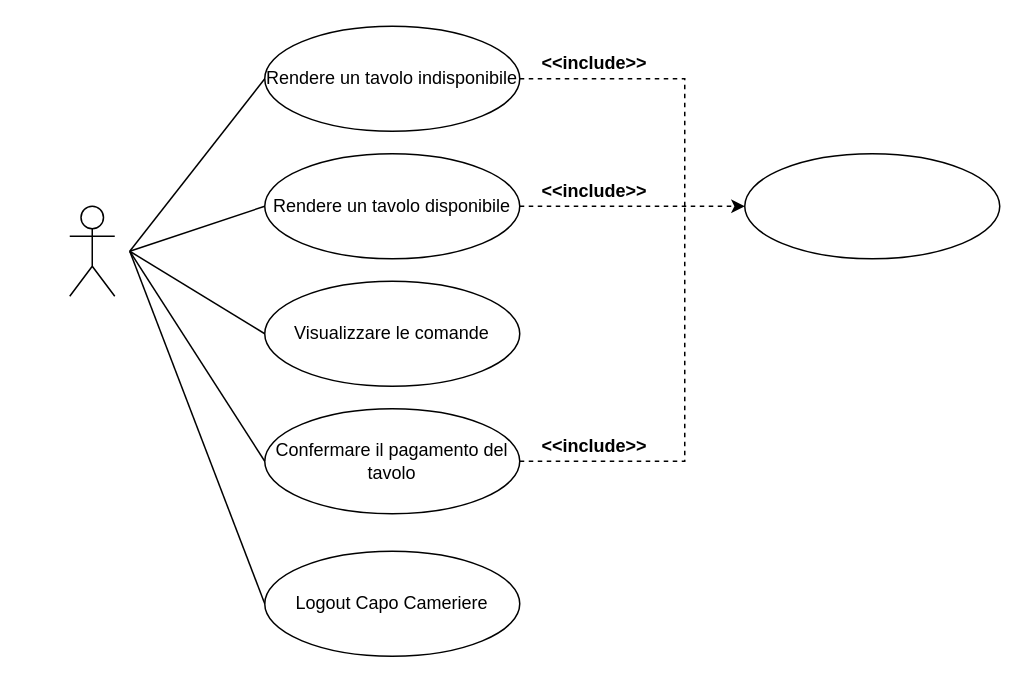
Image size: 1026x683. Some labels were removed from this diagram. Here are the shapes that lost their labels. From the top down, the centre of each, then its label:
At (x=871, y=205): "Visualizzare la lista dei tavoli".
At (x=91, y=250): "Capo Cameriere".
